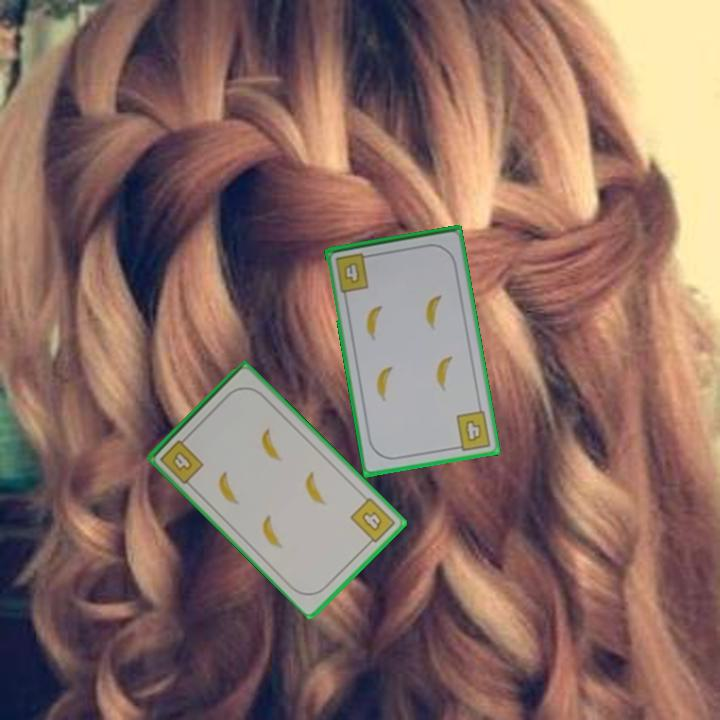4b: (156, 431, 207, 487), (347, 494, 398, 549), (450, 407, 494, 453), (332, 249, 375, 295)
